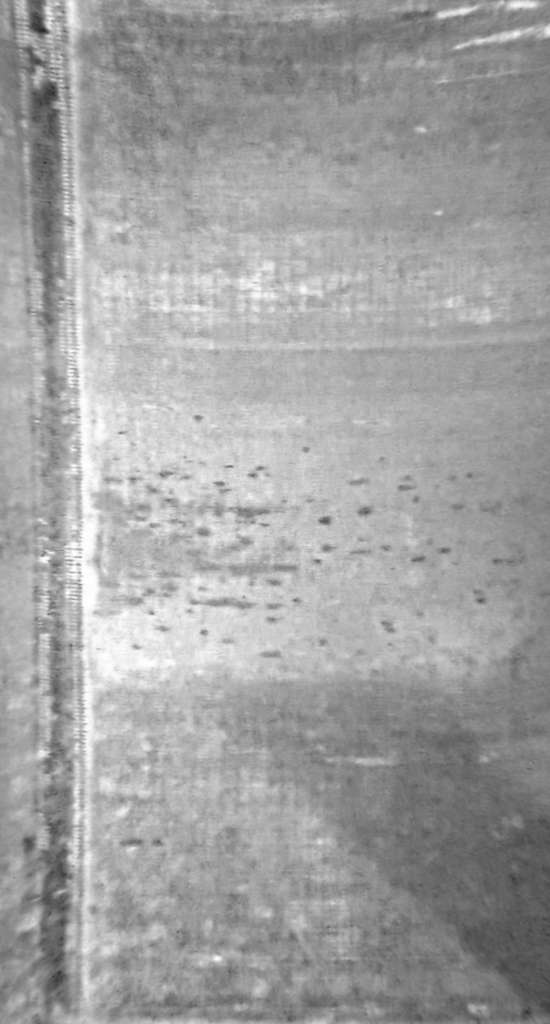splice: (8, 3, 92, 1024)
